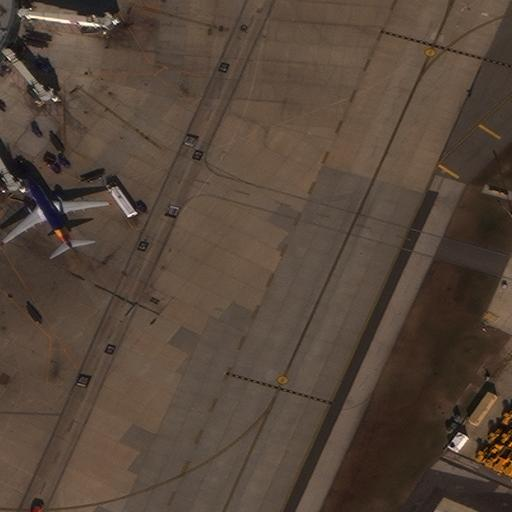Medium Civil Transport: (1, 172, 106, 248)
